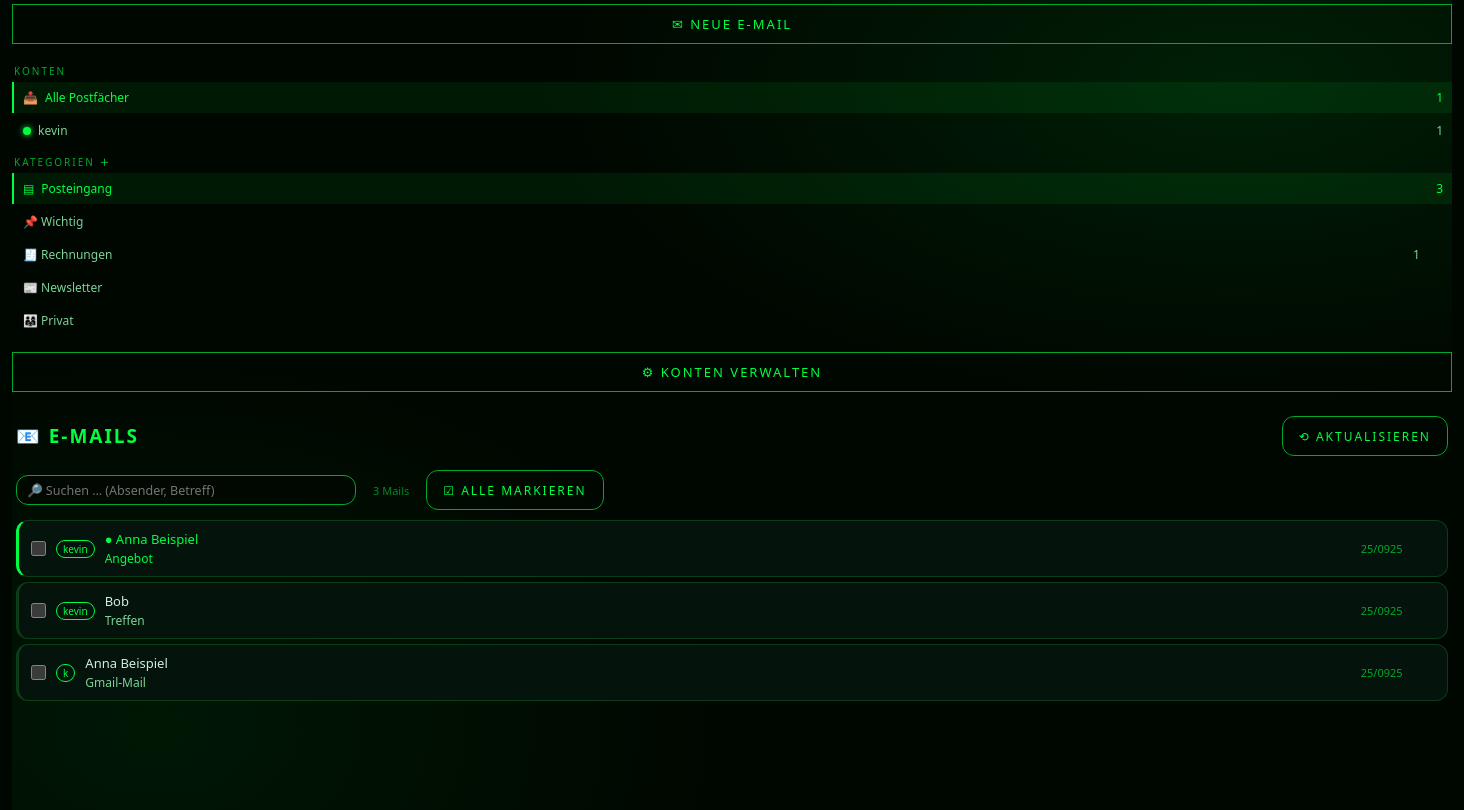
Liste › Sammel-Löschen: markieren, bestätigen, Teilfehler bleiben stehen
expect the text "Angebot" is shown: met, box [105, 550, 153, 567]
Click the button "☑ ALLE MARKIEREN": {"x": 515, "y": 490} [426, 470, 604, 510]
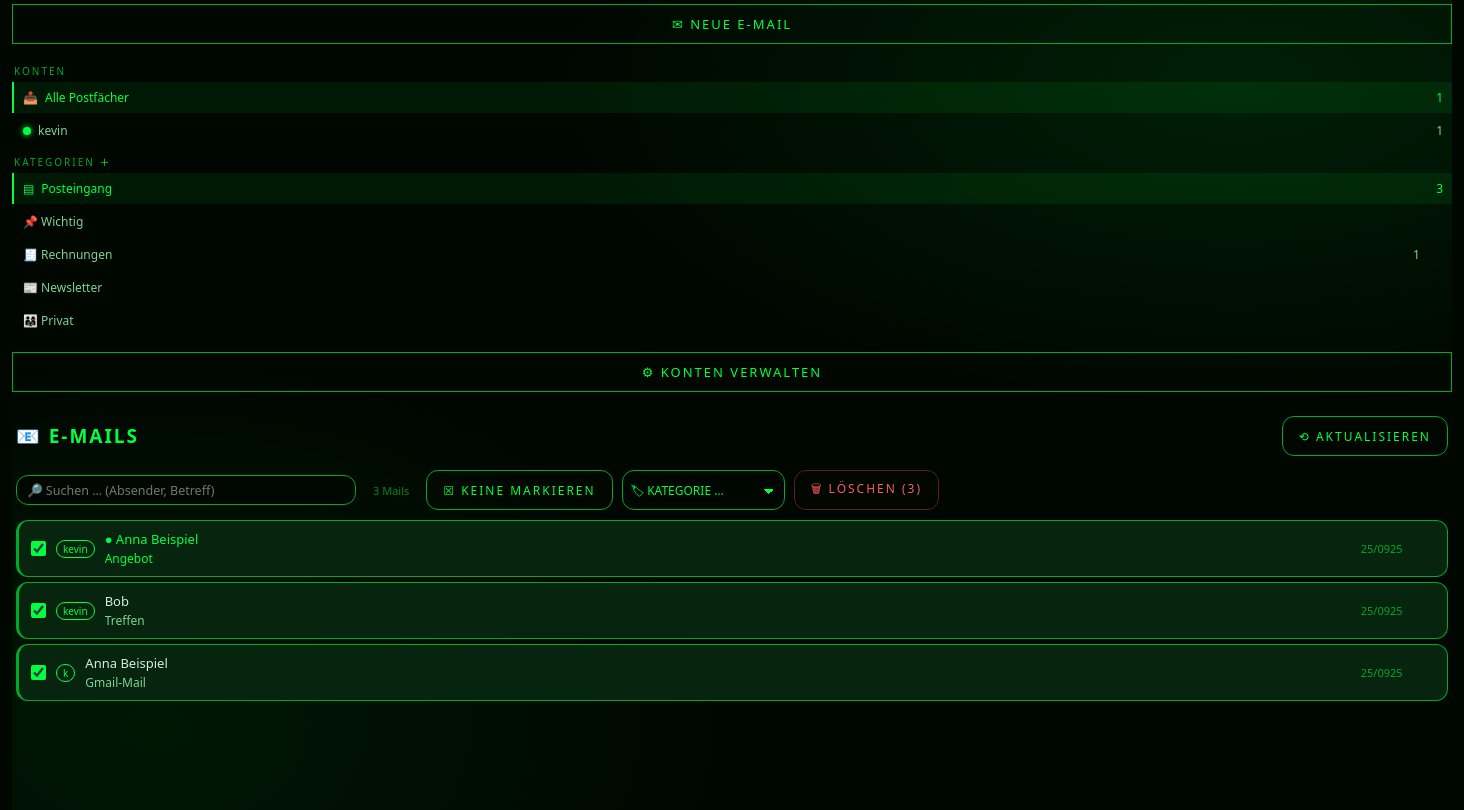
expect the button "☒ KEINE MARKIEREN" is shown: met, box [426, 470, 613, 510]
Click the button "🗑 LÖSCHEN (3)": {"x": 866, "y": 490} [794, 470, 939, 510]
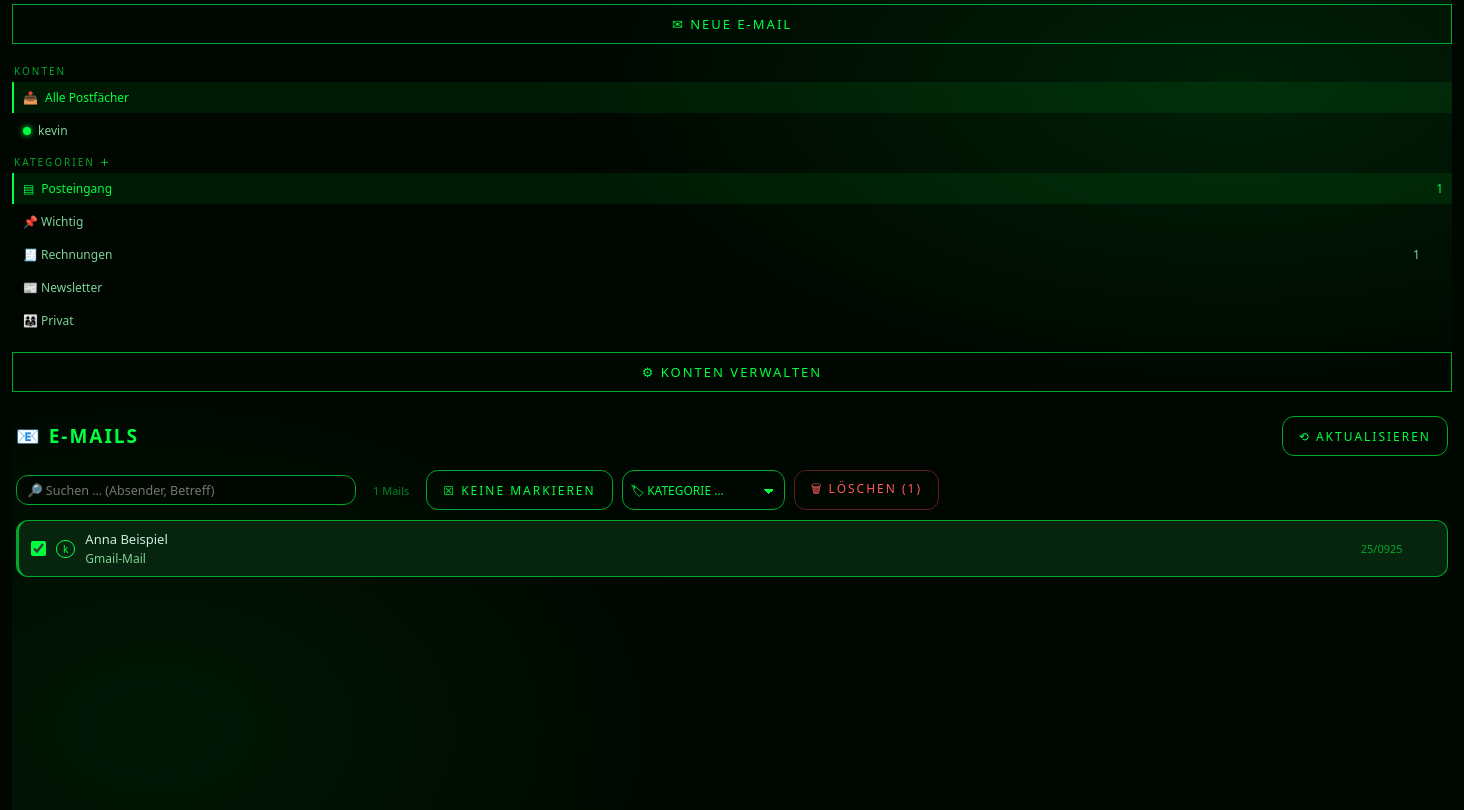
expect the text "Gmail-Mail" is shown: met, box [85, 550, 146, 567]
expect the text "Angebot" is gone: met
expect the button "🗑 LÖSCHEN (1)" is shown: met, box [794, 470, 939, 510]
